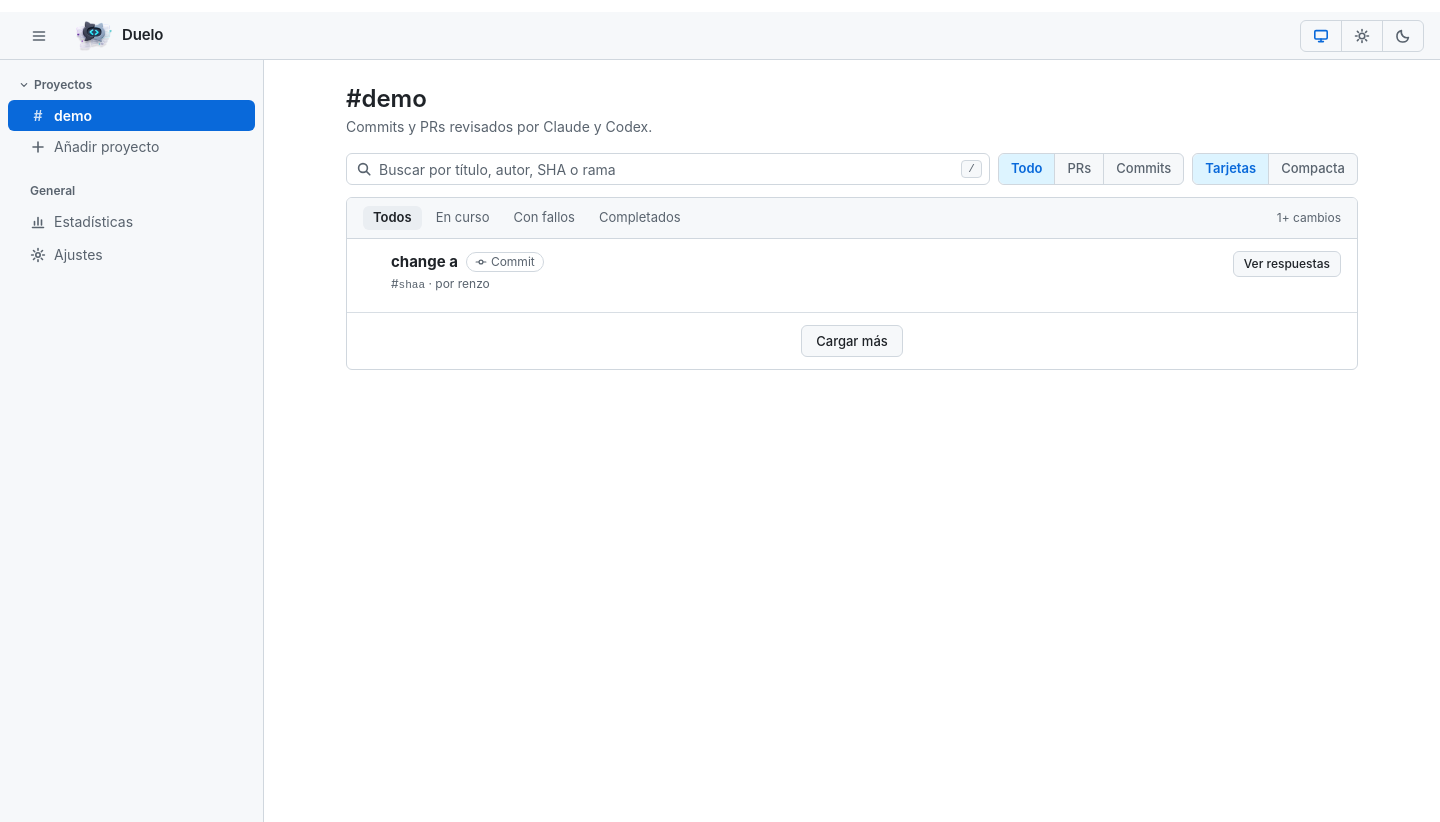
Test case: load more › keeps what is shown when loading more fails and allows retrying
The width and height of the screenshot is (1440, 822).
Expected: the text "change a" is shown, [391, 252, 458, 270]
Click the button "Cargar más" at (852, 341), box [801, 325, 903, 357]
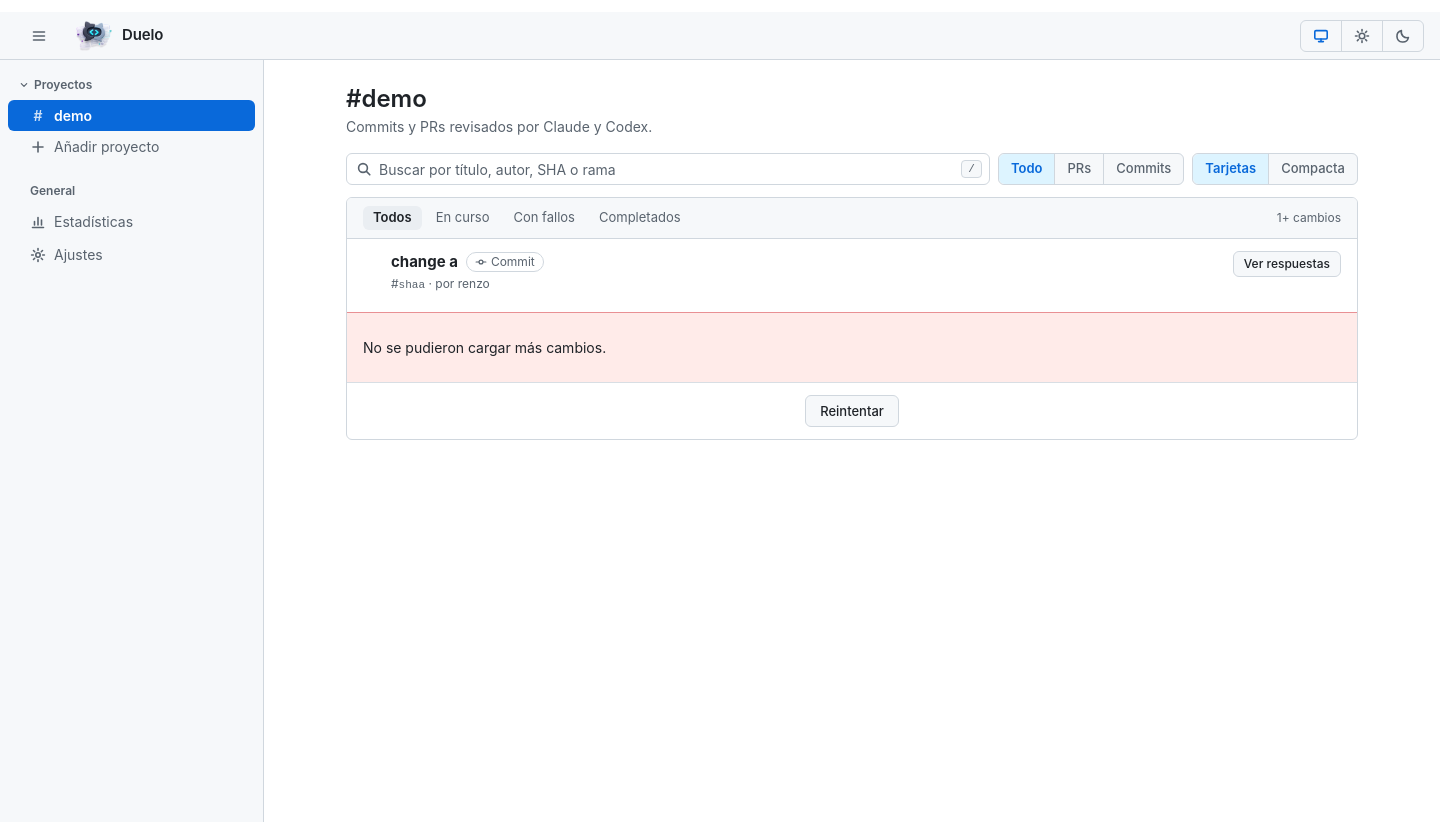
Expected: the text "change a" is shown, [391, 252, 458, 270]
Now the message reads "No se pudieron cargar más cambios.", box [363, 339, 606, 356]
Click the button "Reintentar" at (852, 411), box [805, 395, 899, 427]
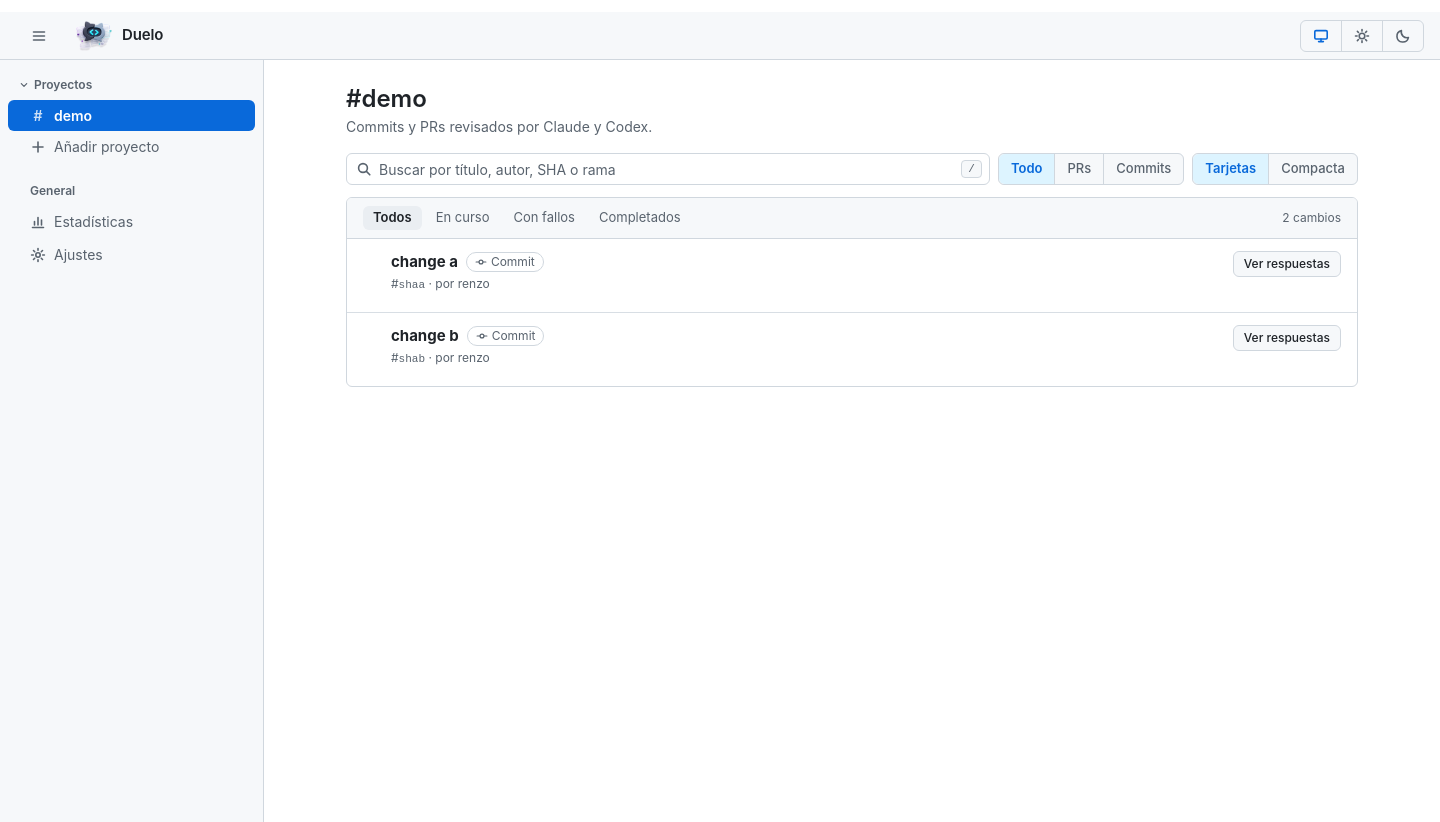
Now the text "change b" is shown, box [391, 326, 459, 345]
Now the message "No se pudieron cargar más cambios." is gone
